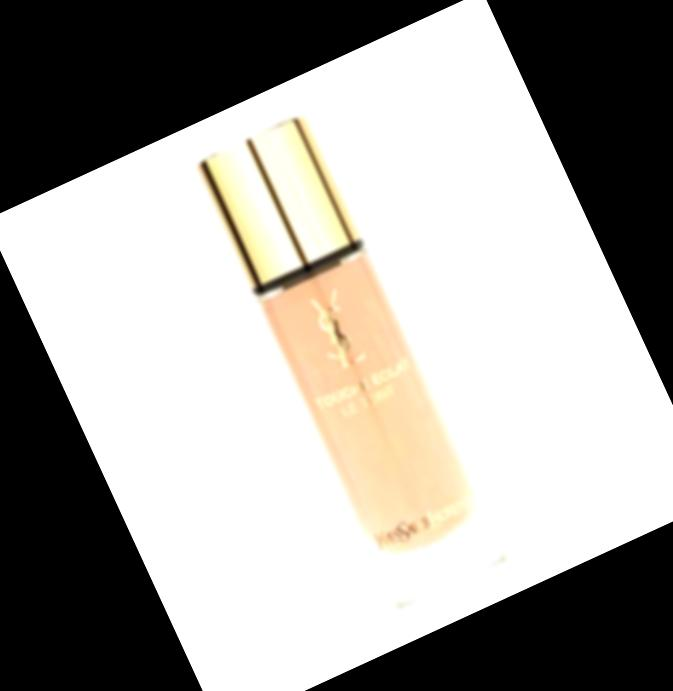cosmetic: (189, 106, 519, 620)
